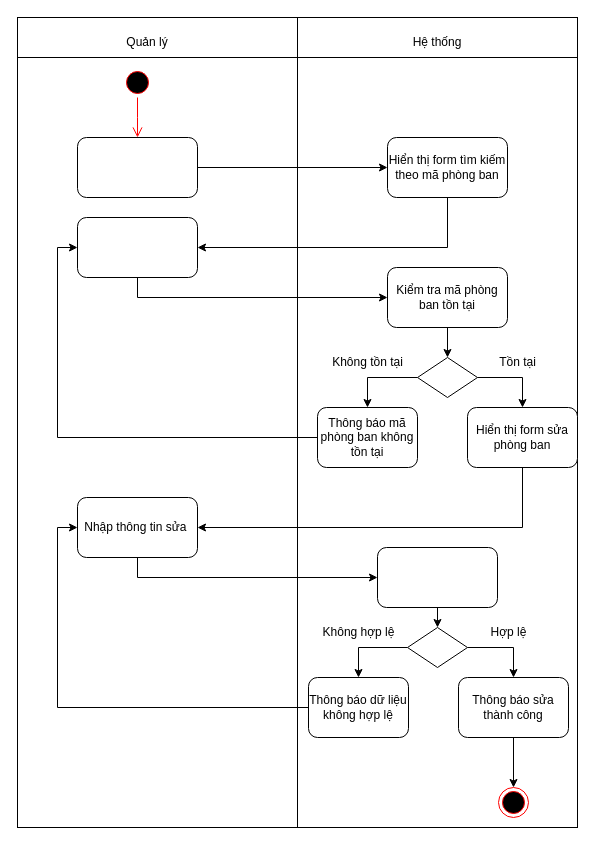
The diagram is 595 pixels wide and 845 high, and some of its shapes have lost their labels. The box of each missing label's shape, as (x1, y1, x2, y2) in pixels:
Check định dạng, check null: (376, 546, 498, 608)
Nhập mã phòng ban: (76, 216, 198, 278)
Ấn chọn sửa phòng ban: (76, 136, 198, 198)
